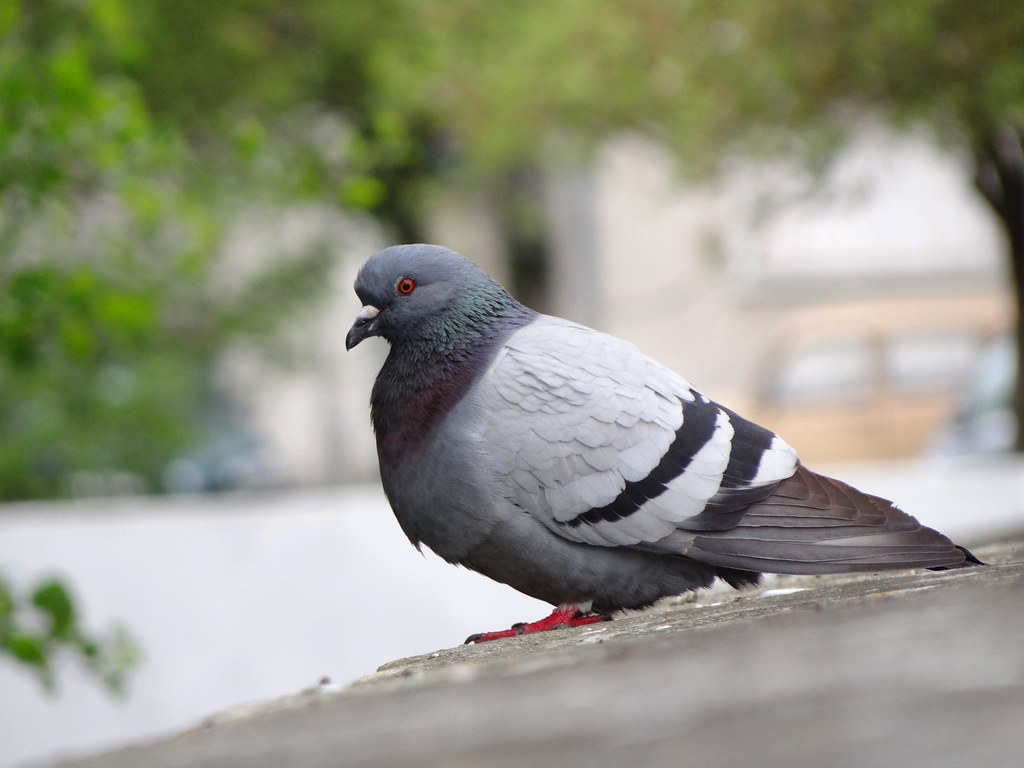pigeon: (333, 236, 1009, 660)
